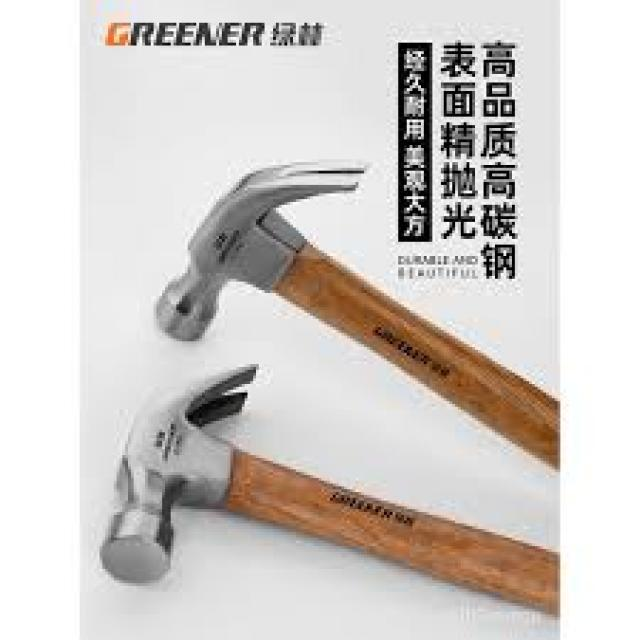hammer: (145, 153, 614, 476), (96, 358, 640, 622)
